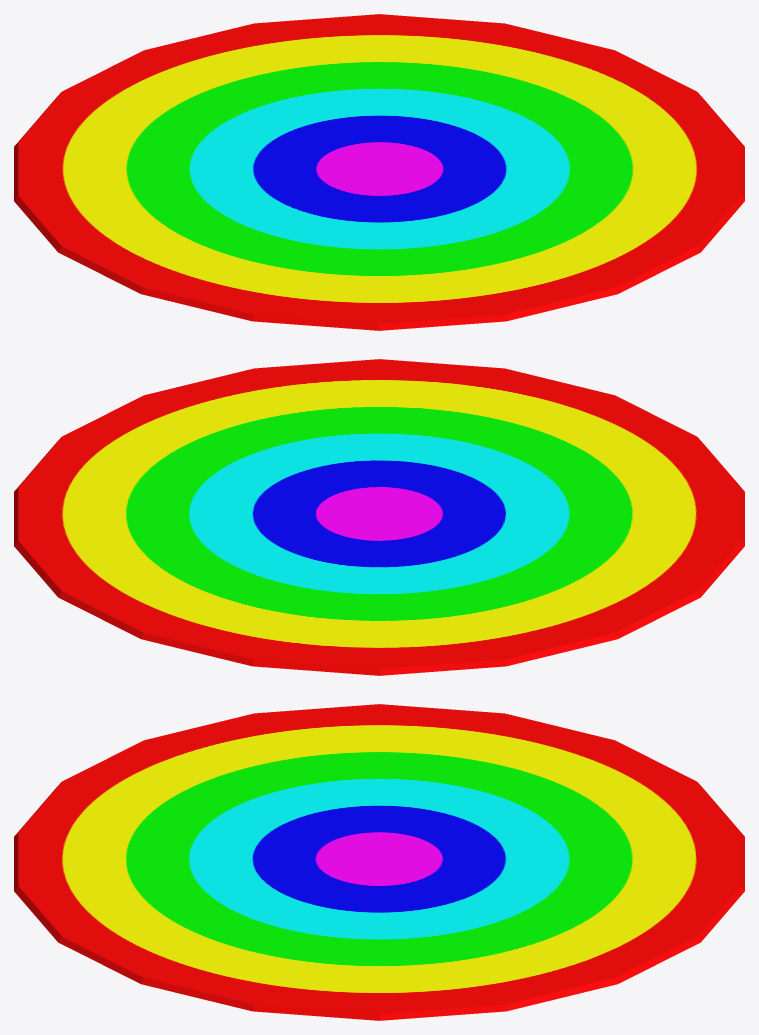
File: Rug.FBX
3 views of the same model, one above another, from view 1: azimuth 30°, elevation 25°; view 2: azimuth 150°, elevation 25°; view 3: azimuth 270°, elevation 25° (orthographic).
Parts seen in each view (by area): view 1: Rug; view 2: Rug; view 3: Rug.
Boxes of the visible parts, box(x1,y1,x2,y2) form: Rug: box(14, 14, 744, 330); Rug: box(14, 359, 744, 675); Rug: box(14, 704, 744, 1020).
Size of the model in its own units: 1.14 by 1.13 by 0.00848.
